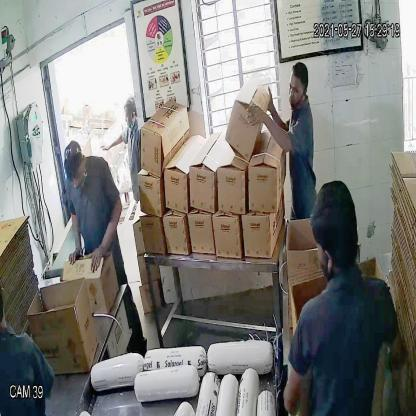no_goggles: (285, 80, 308, 100)
